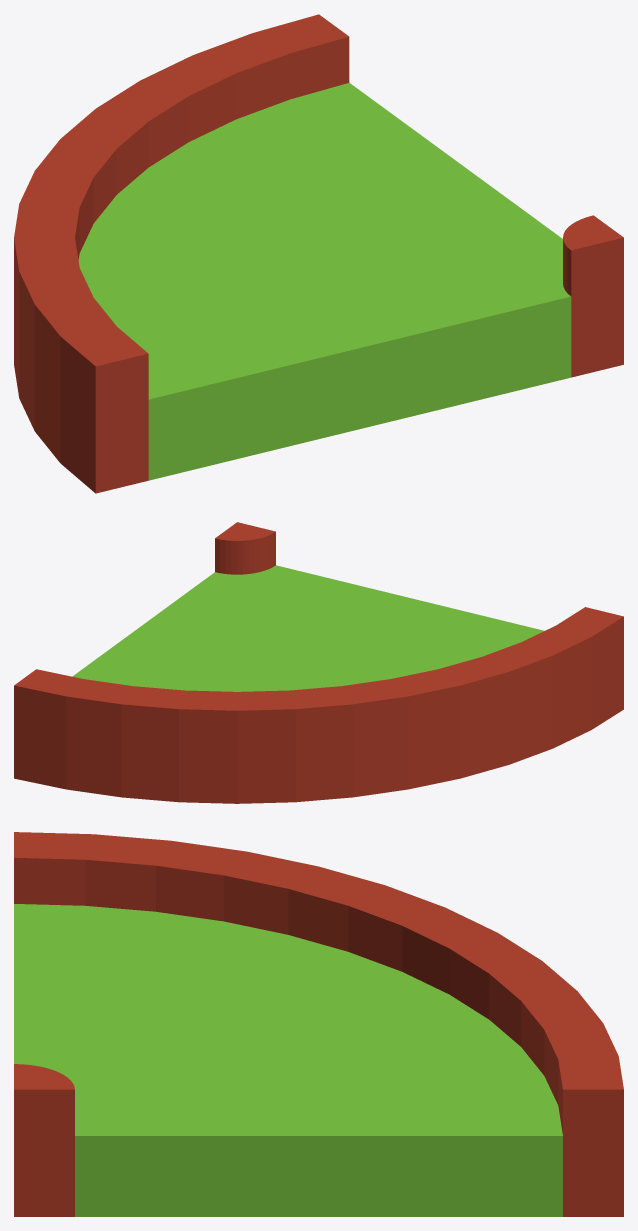
The model's file is Corner_Round.FBX.
3 views of the same model, one above another, from view 1: azimuth 30°, elevation 25°; view 2: azimuth 150°, elevation 25°; view 3: azimuth 270°, elevation 25° (orthographic). The views are drawn at different scales.
Parts seen in each view (by area): view 1: Round_corner_1_01, Walls; view 2: Walls, Round_corner_1_01; view 3: Round_corner_1_01, Walls.
Boxes of the visible parts, left/top/right/bottom form: Round_corner_1_01: left=78, top=83, right=571, bottom=480; Walls: left=14, top=14, right=623, bottom=493; Walls: left=14, top=522, right=623, bottom=803; Round_corner_1_01: left=72, top=565, right=544, bottom=691; Round_corner_1_01: left=14, top=904, right=562, bottom=1216; Walls: left=14, top=832, right=623, bottom=1216.
Size of the model in its own units: 0.9999 by 0.9999 by 0.23.
